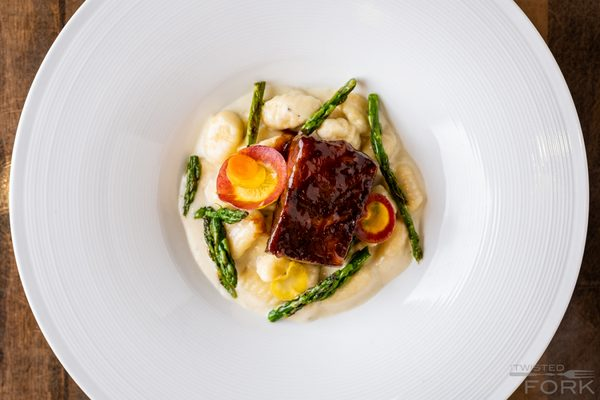curry: (5, 0, 590, 396)
